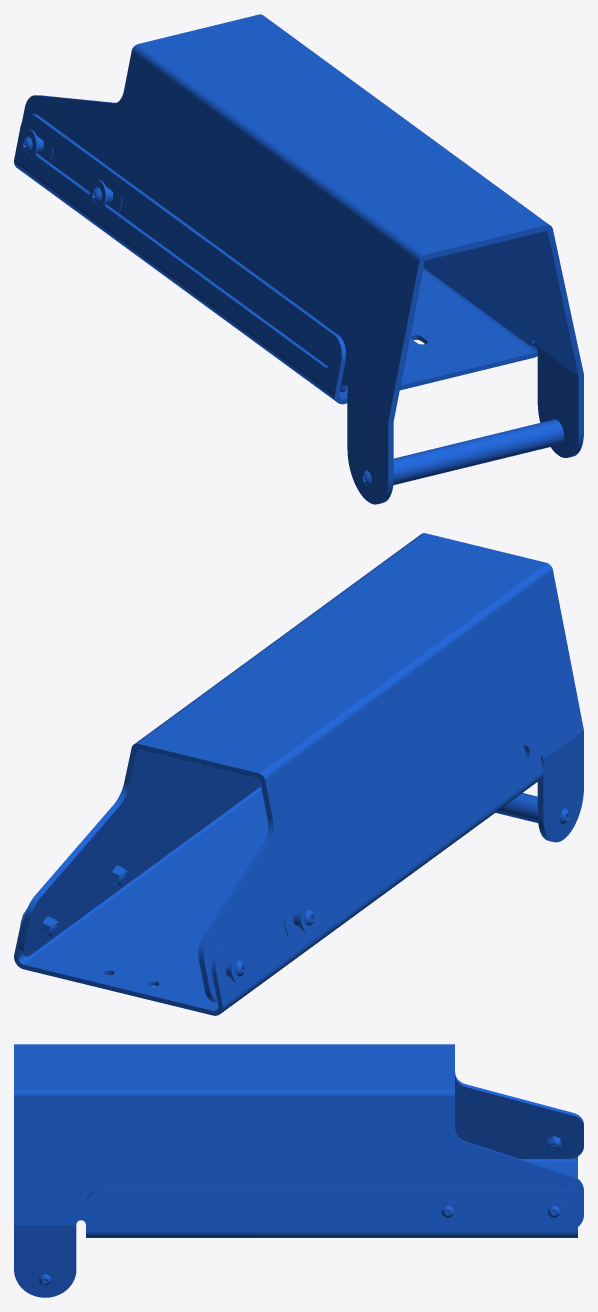
The model's file is loader_blue.obj.
3 renders of one model, top to bottom at view 1: azimuth 30°, elevation 25°; view 2: azimuth 150°, elevation 25°; view 3: azimuth 270°, elevation 25°, orthographic. The views are drawn at different scales.
Bounding box in the file's own units: 0.1249 × 0.137 × 0.365.
